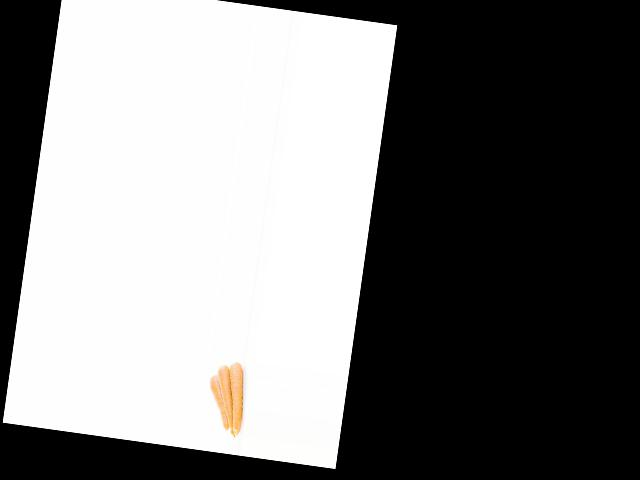carrot: (220, 358, 254, 435)
